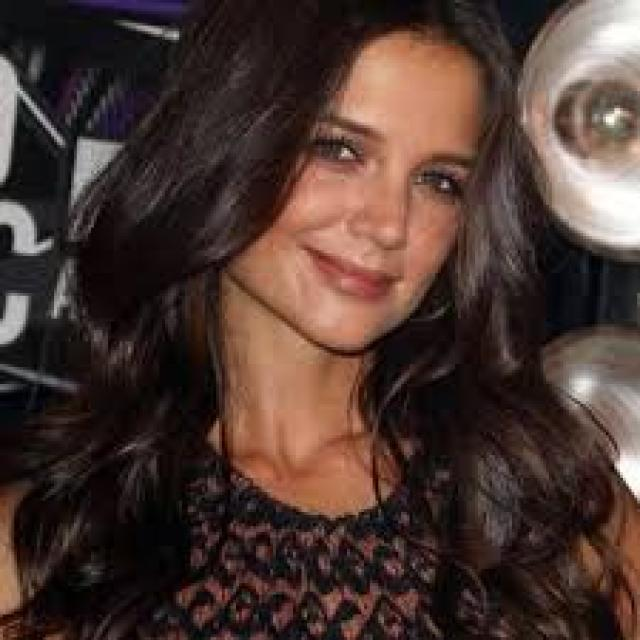normal_face: (197, 57, 501, 407)
